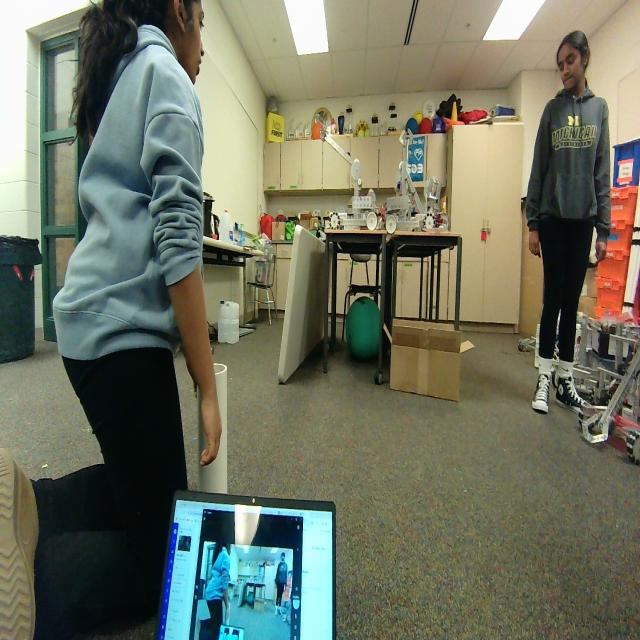algae: (344, 295, 380, 359)
